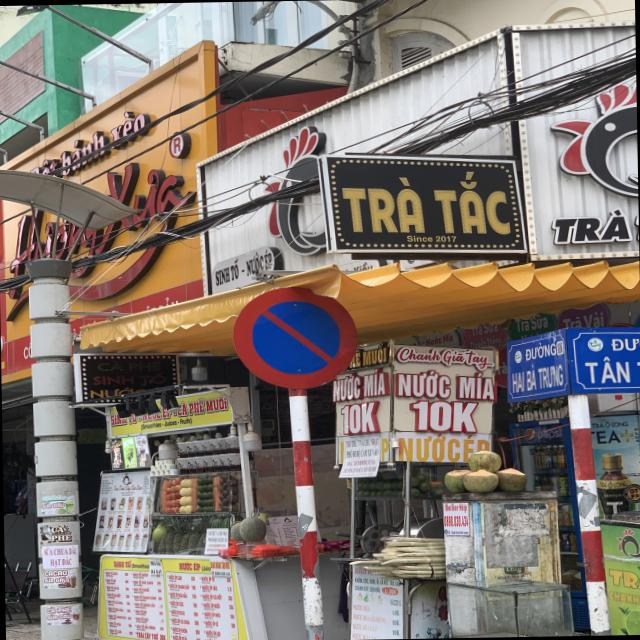Cam_Dau_Xe: (234, 280, 366, 390)
